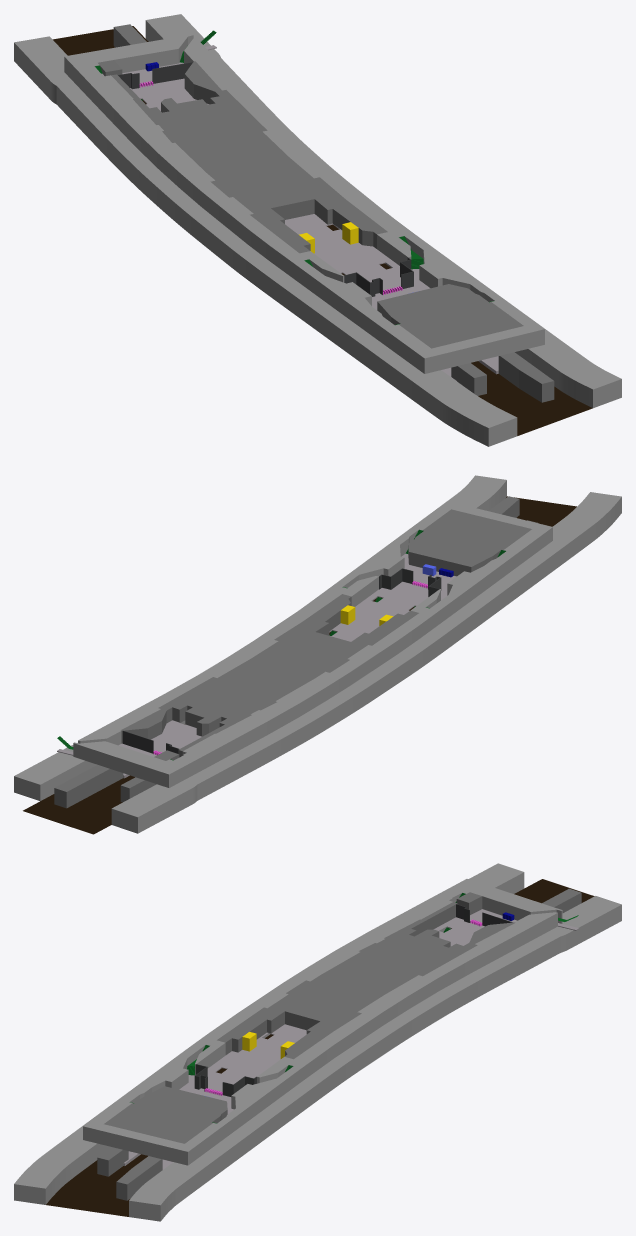
The model's file is station.glb.
3 views of the same model, one above another, from view 1: azimuth 30°, elevation 25°; view 2: azimuth 150°, elevation 25°; view 3: azimuth 330°, elevation 25° (orthographic). The views are drawn at different scales.
Parts seen in each view (by area): view 1: floor_mezzanine, floor_platform; view 2: floor_mezzanine, floor_platform; view 3: floor_mezzanine, floor_platform.
Boxes of the visible parts, x1,y1,x2,y2 form: floor_mezzanine: (64, 30, 544, 373); floor_platform: (14, 14, 621, 446); floor_mezzanine: (57, 501, 552, 787); floor_platform: (14, 475, 621, 834); floor_mezzanine: (83, 879, 578, 1165); floor_platform: (14, 863, 621, 1221).
Bounding box in the file's own units: 61.4 × 9.9 × 275.
